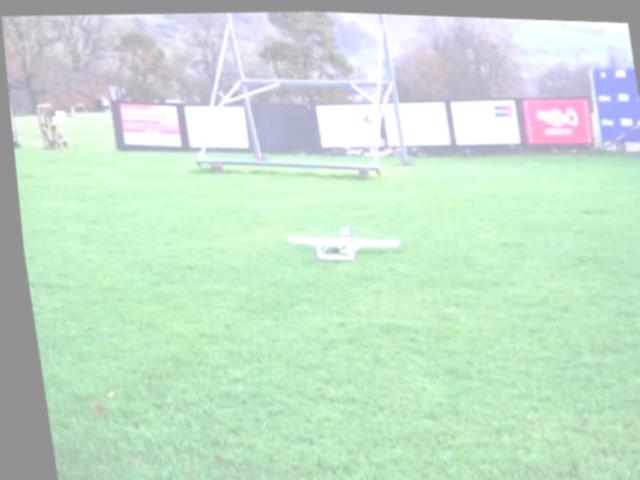uav: (272, 206, 405, 274)
